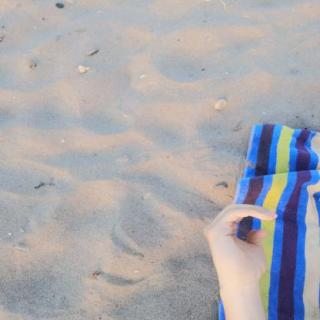JEEM: (194, 197, 286, 285)
